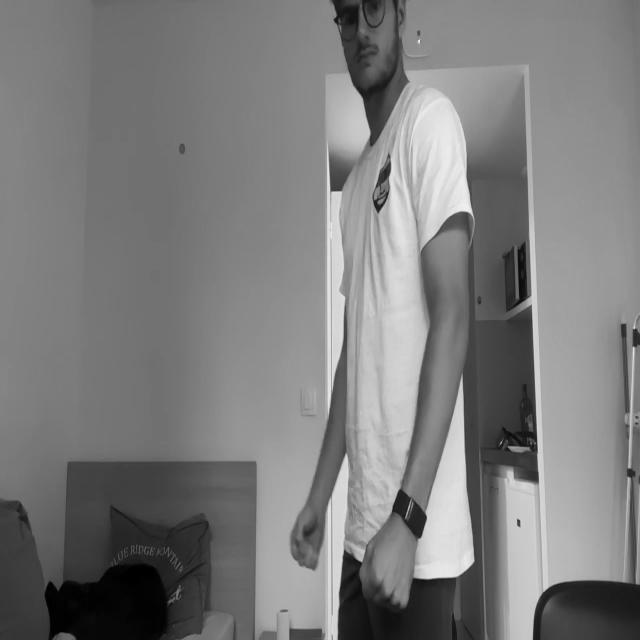elbow: (430, 288, 472, 360)
hand: (361, 513, 415, 611), (290, 501, 327, 571)
shoulder: (409, 90, 469, 198)
